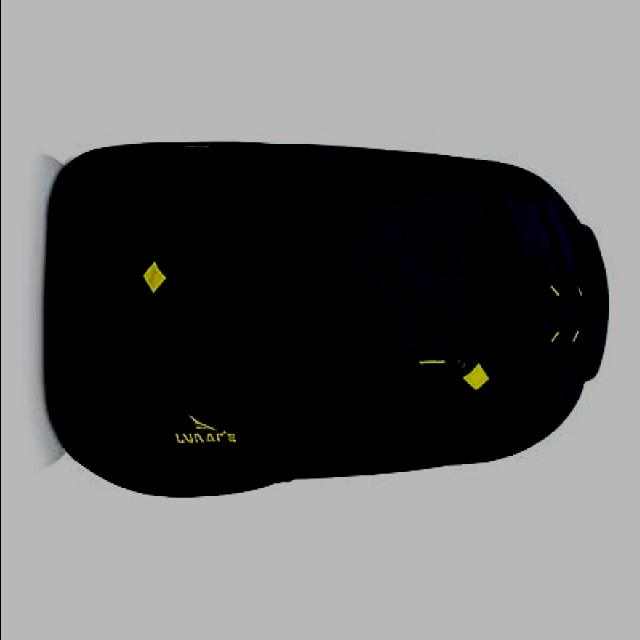backpack: (48, 141, 611, 499)
